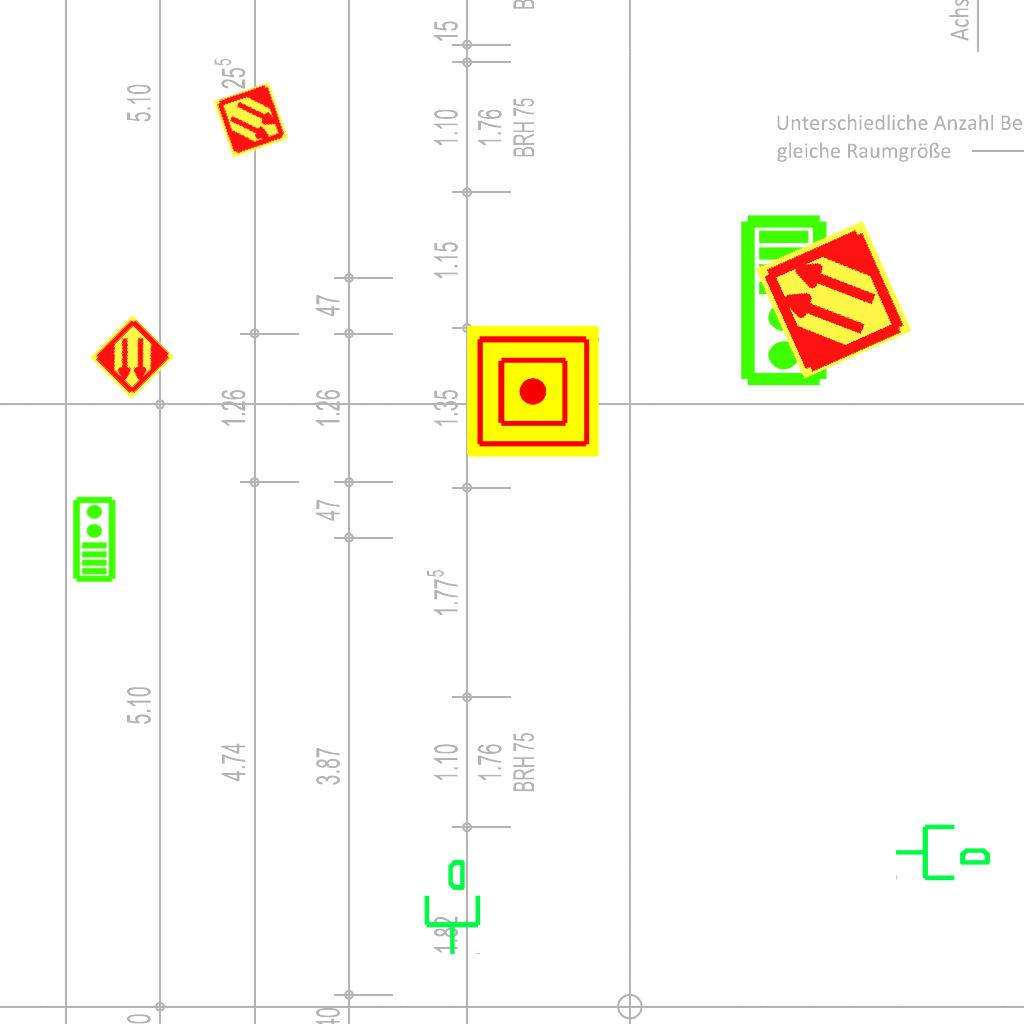ASR_Ansaugrauchmelder: (750, 216, 917, 383), (88, 313, 176, 401), (211, 80, 291, 160)
Datenanschluss_einfach: (416, 857, 485, 957), (893, 816, 993, 885)
Gegensprechanlage_mit_Video: (738, 213, 833, 389), (70, 495, 117, 583)
NAM-Nichtautomatischer_Melder: (467, 325, 599, 457)
